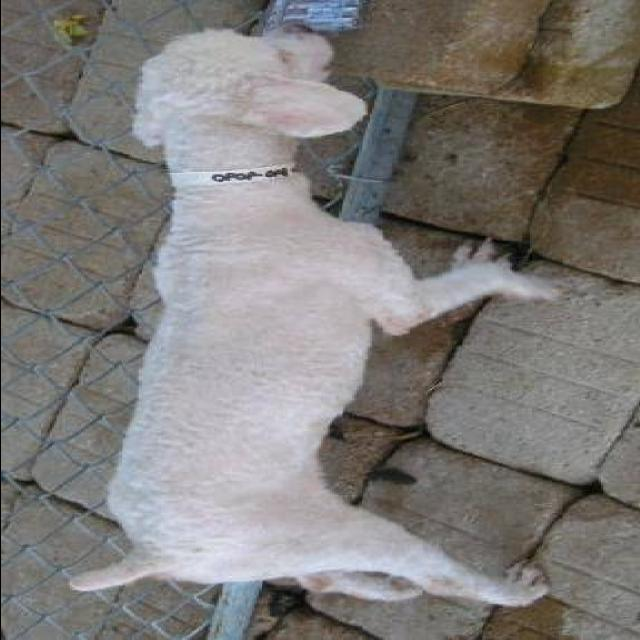dog: (73, 26, 591, 624)
